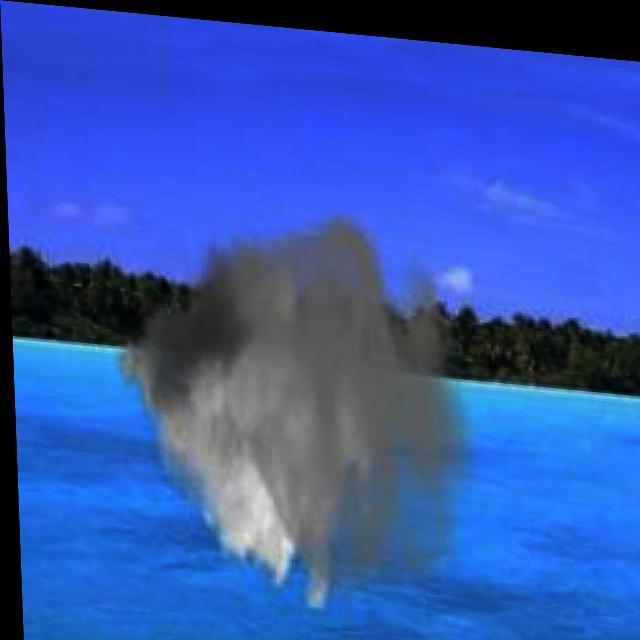Smoke: (110, 193, 466, 616)
